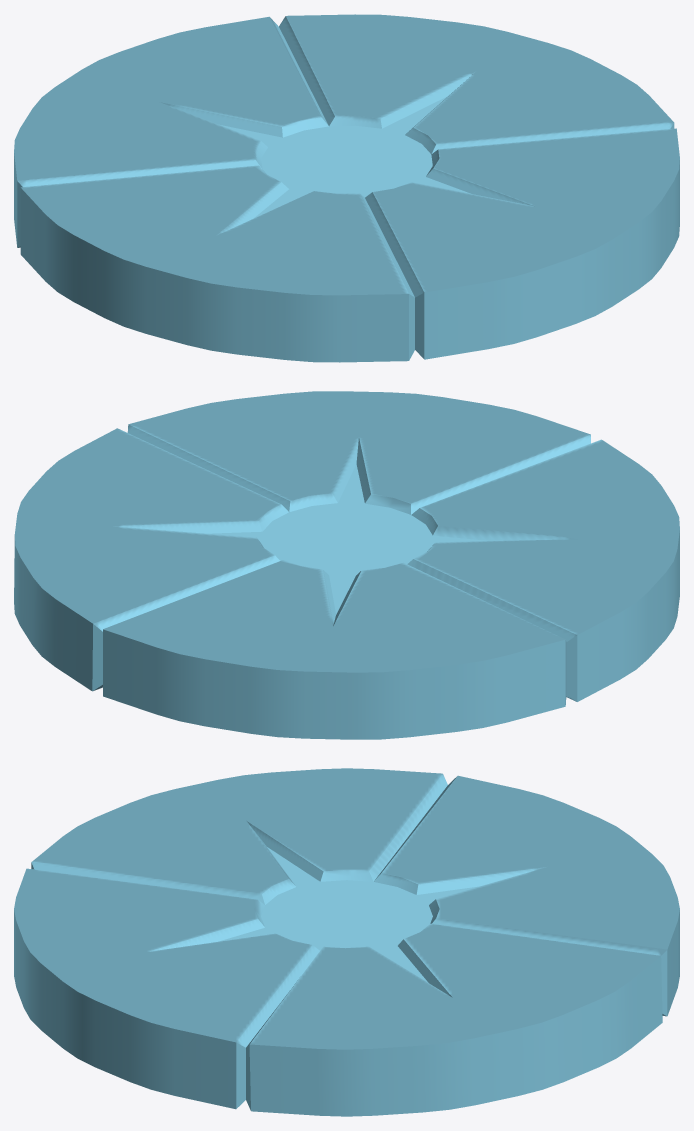
The model's file is pickup_3.fbx.
3 views of the same model, one above another, from view 1: azimuth 30°, elevation 25°; view 2: azimuth 150°, elevation 25°; view 3: azimuth 270°, elevation 25° (orthographic).
Parts seen in each view (by area): view 1: pCylinder3; view 2: pCylinder3; view 3: pCylinder3.
Part boxes in pixels (x1,y1,x2,y2): pCylinder3: [14, 14, 679, 362]; pCylinder3: [14, 391, 679, 739]; pCylinder3: [14, 768, 679, 1116].
Bounding box in the file's own units: 21.36 × 2.37 × 21.36.
1 material, 1 textured.
